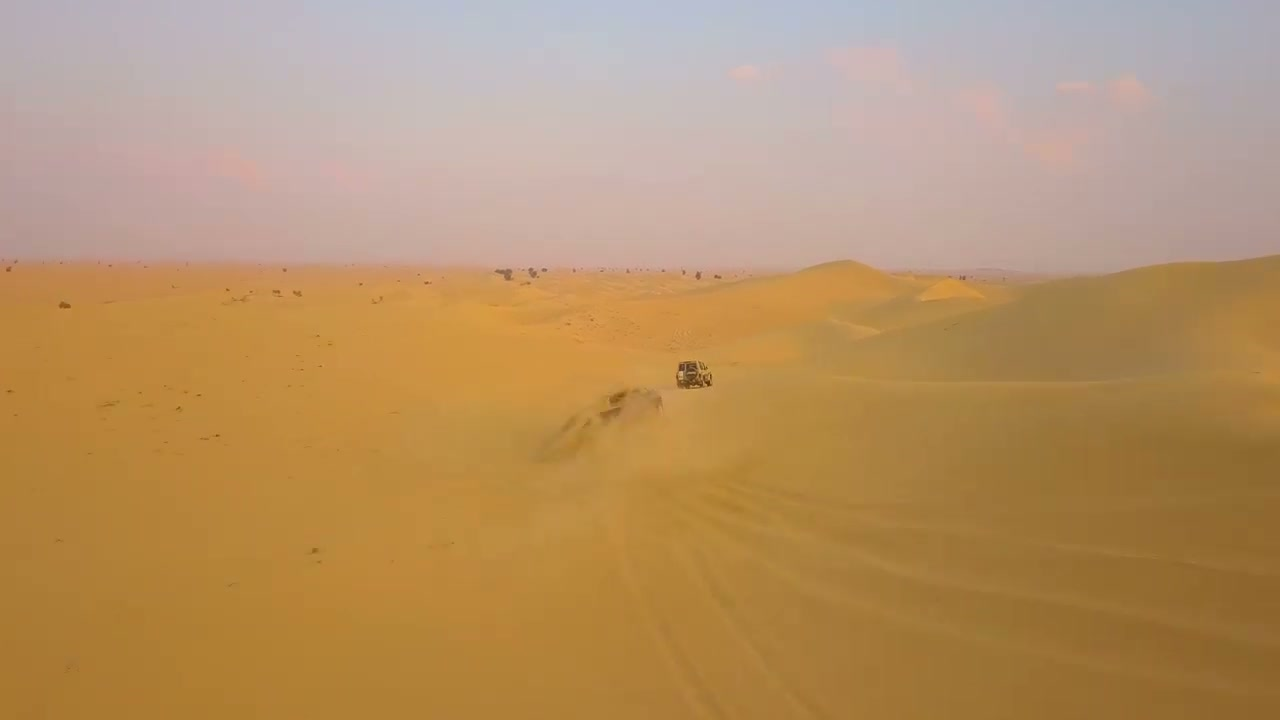vehicle_track: (646, 480, 1275, 702), (600, 478, 819, 719)
